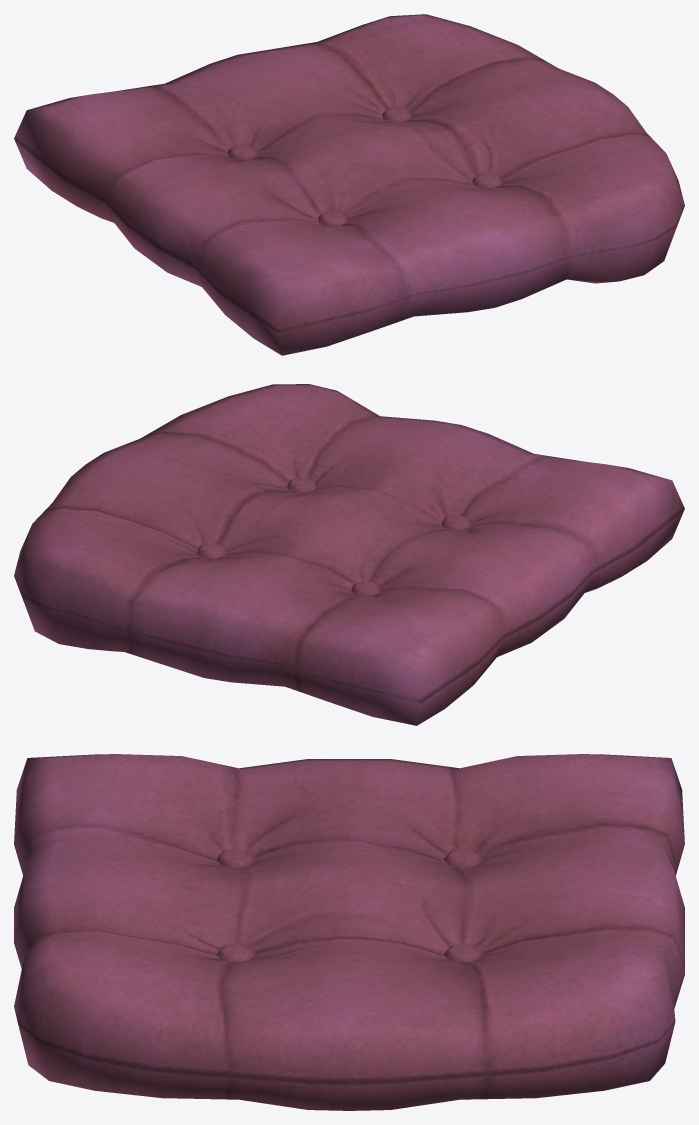
The model's file is cushion.glb.
3 renders of one model, top to bottom at view 1: azimuth 30°, elevation 25°; view 2: azimuth 150°, elevation 25°; view 3: azimuth 270°, elevation 25°, orthographic. The views are drawn at different scales.
Visible parts, largest first — view 1: ChairCushion_a; view 2: ChairCushion_a; view 3: ChairCushion_a.
Part boxes in pixels (box(x1,y1,x2,y2)): ChairCushion_a: box(14, 14, 684, 355); ChairCushion_a: box(14, 384, 684, 725); ChairCushion_a: box(14, 754, 684, 1110).
Bounding box in the file's own units: 0.4068 × 0.0731 × 0.391.
Materials: 1 (1 with a texture image).
